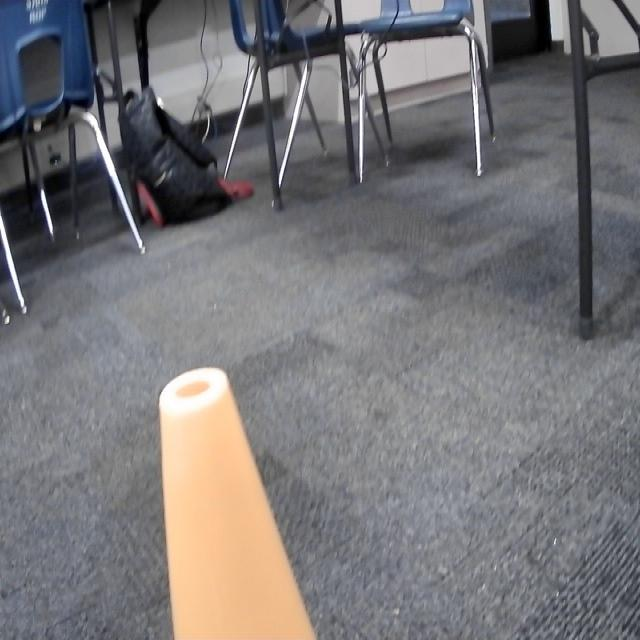cone: (157, 363, 319, 640)
